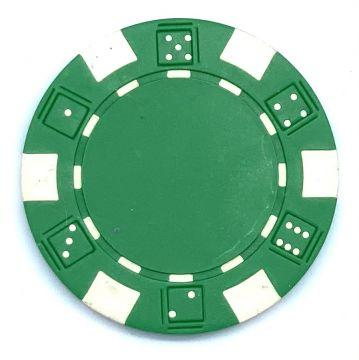chip-green: (22, 19, 338, 334)
